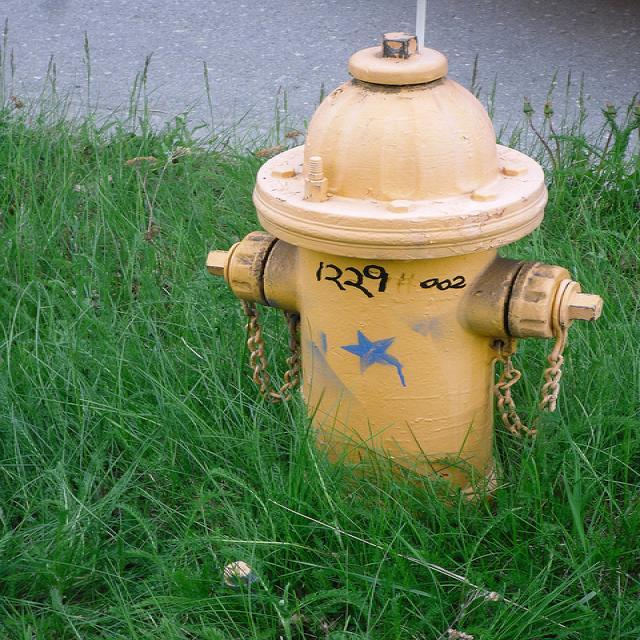fire_hydrant: (201, 32, 608, 501)
